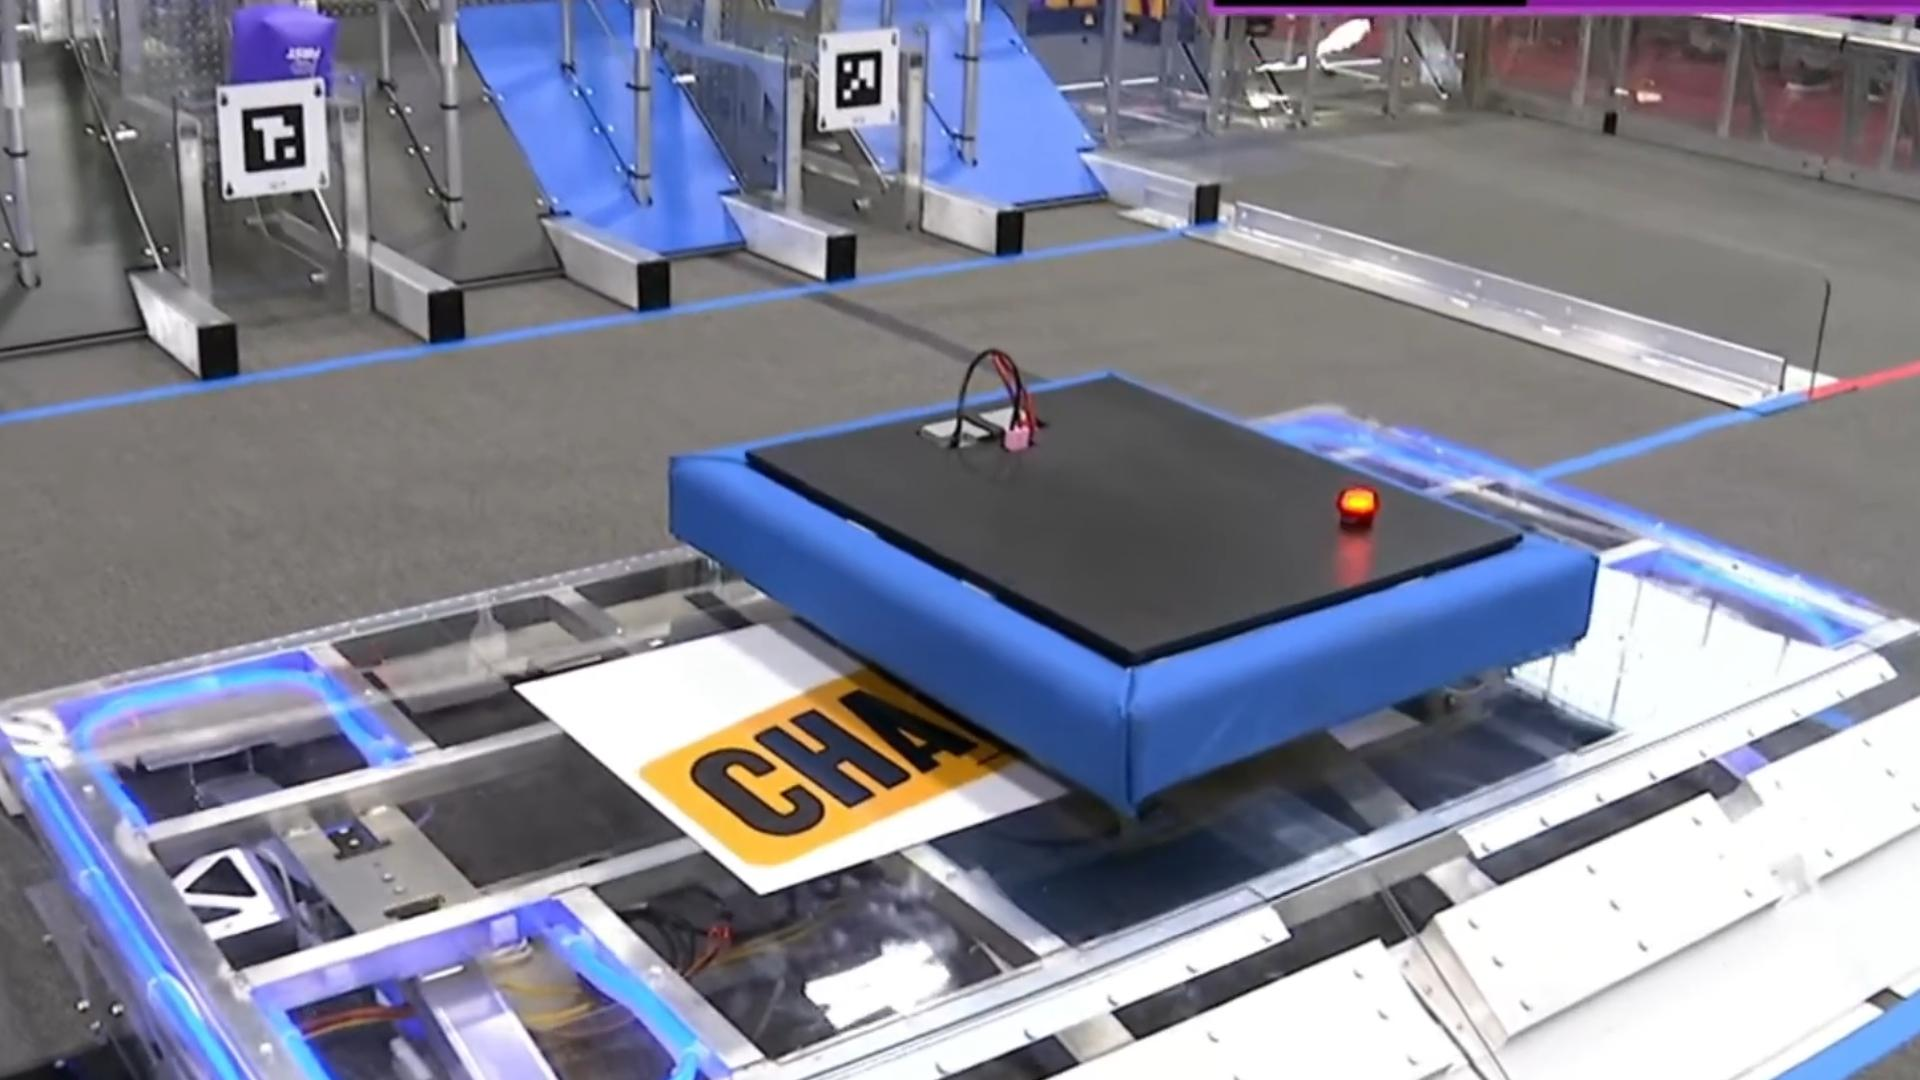robot: (665, 363, 1600, 816)
